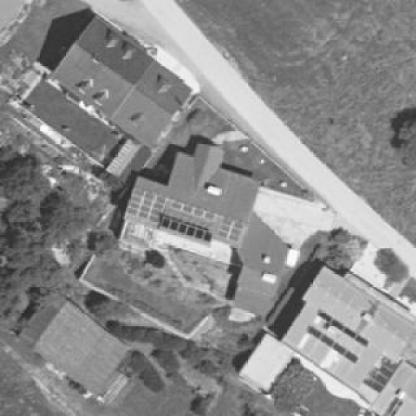solar-pv-panel: (306, 324, 359, 365), (318, 309, 370, 348), (126, 189, 166, 223), (162, 218, 214, 241), (171, 201, 215, 220), (218, 216, 244, 243)
